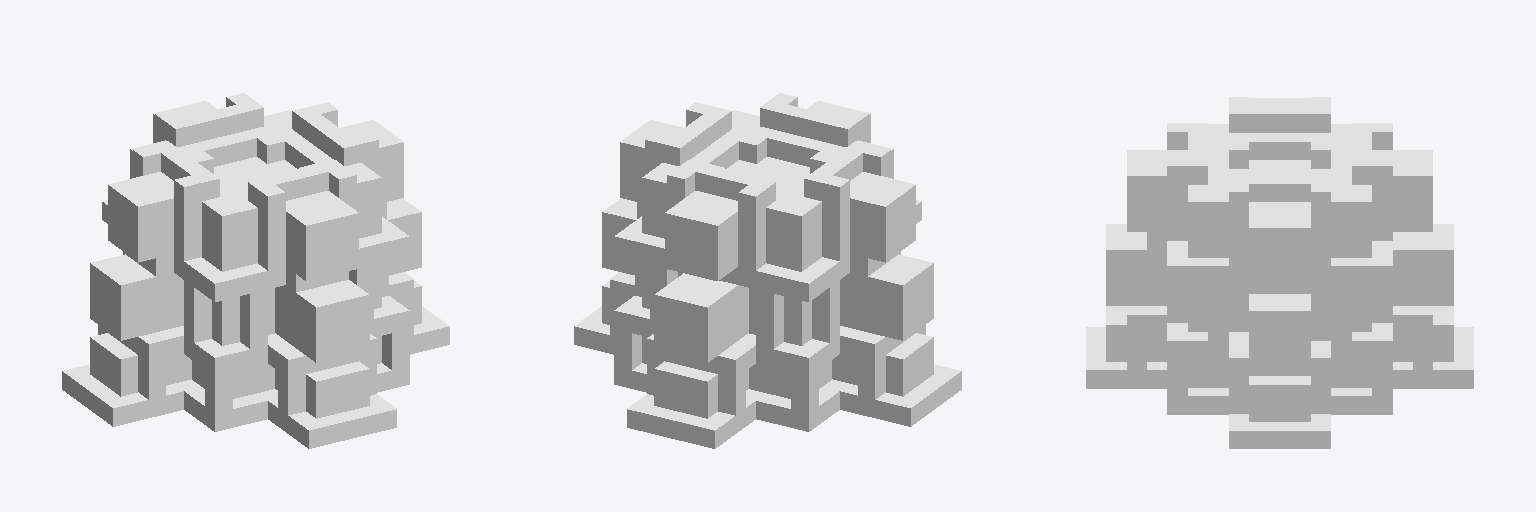
Rendered from standDead-0.obj.
3 views of the same model, side by side, from view 1: azimuth 30°, elevation 25°; view 2: azimuth 150°, elevation 25°; view 3: azimuth 270°, elevation 25° (orthographic).
Parts seen in each view (by area): view 1: object 1; view 2: object 1; view 3: object 1.
Boxes of the visible parts, box(x1,y1,x2,y2) form: object 1: box(62, 93, 449, 448); object 1: box(574, 93, 961, 448); object 1: box(1086, 97, 1473, 448).
Size of the model in its own units: 1.9 by 1.2 by 1.9.